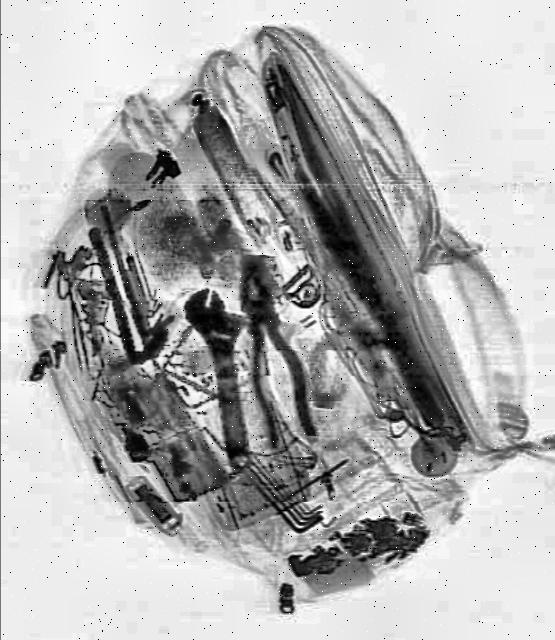Pliers: (224, 248, 320, 448)
Wrench: (182, 282, 275, 476)
